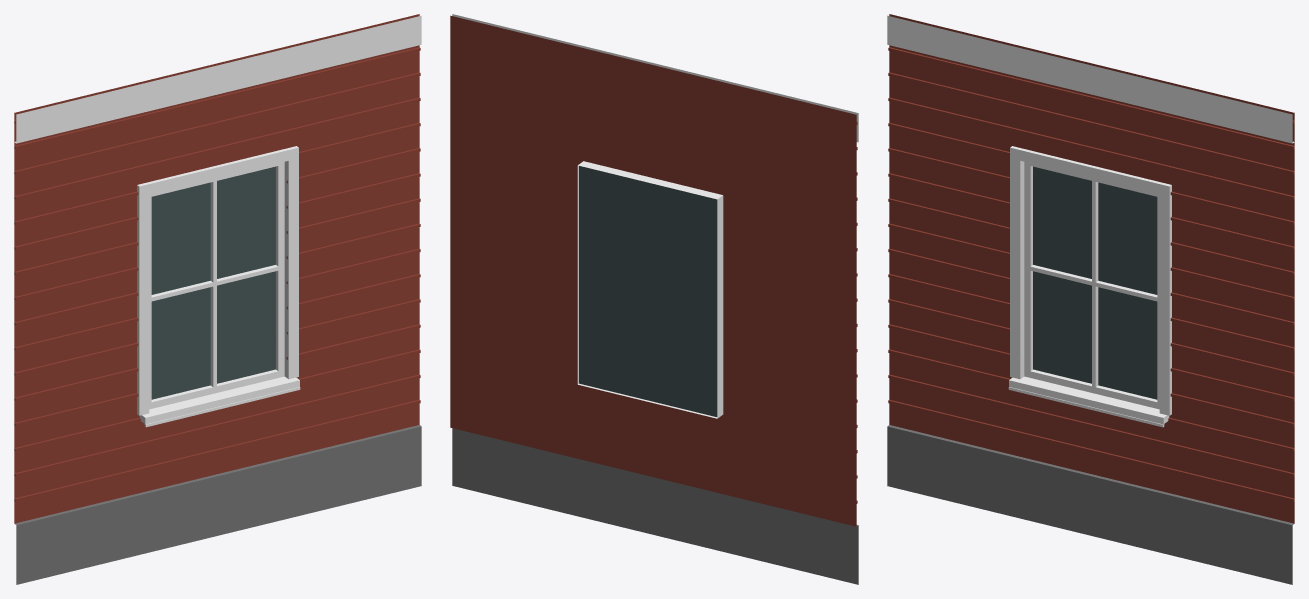
The model's file is base-w1_close.fbx.
3 renders of one model, left to right at view 1: azimuth 30°, elevation 25°; view 2: azimuth 150°, elevation 25°; view 3: azimuth 330°, elevation 25°, orthographic.
Visible parts, largest first — view 1: a2000/200/base-w1_close; view 2: a2000/200/base-w1_close; view 3: a2000/200/base-w1_close.
Boxes of the visible parts, x1=… form: a2000/200/base-w1_close: x1=14, y1=14, x2=421, y2=584; a2000/200/base-w1_close: x1=450, y1=14, x2=858, y2=584; a2000/200/base-w1_close: x1=887, y1=14, x2=1294, y2=584.
Size of the model in its own units: 3.2 by 3.55 by 0.165.
